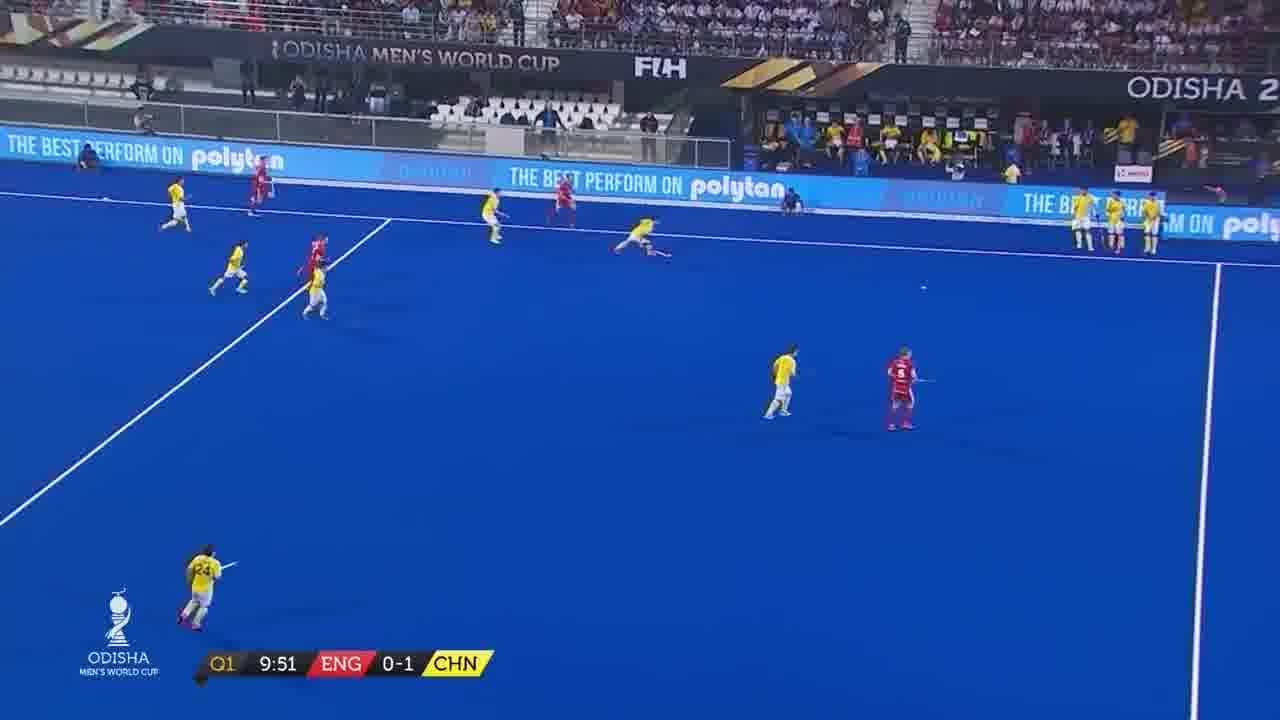ball: (915, 283, 931, 294)
